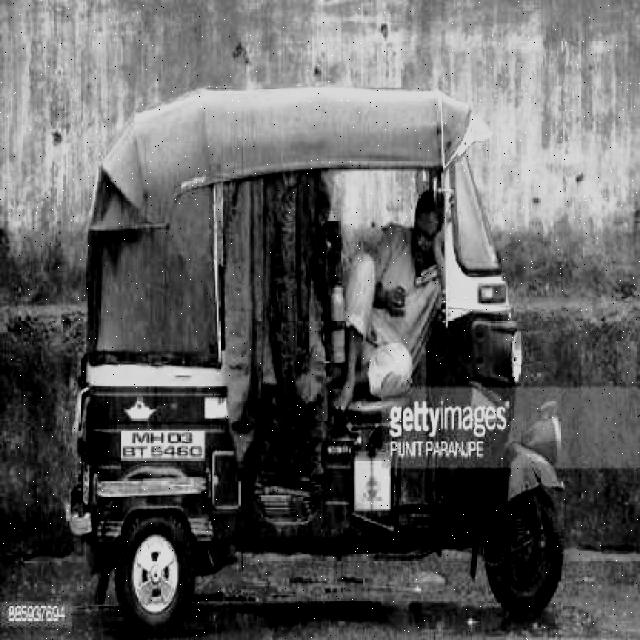Auto-Rickshaw: (68, 84, 568, 638)
